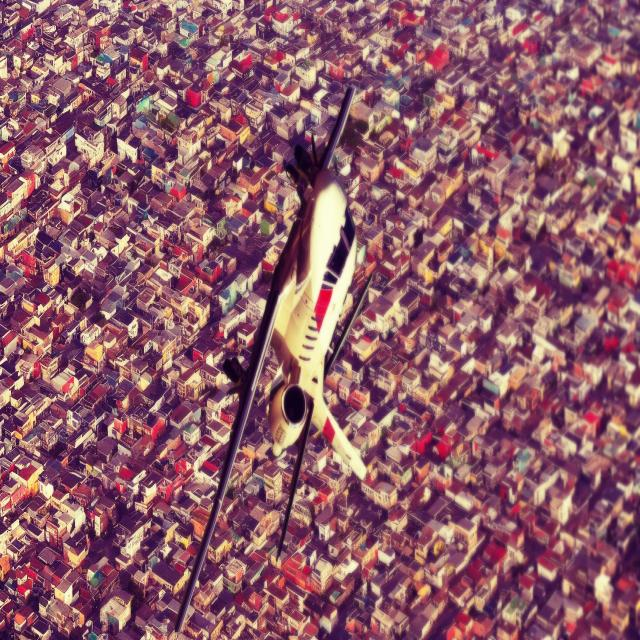airplane: (171, 82, 372, 637)
